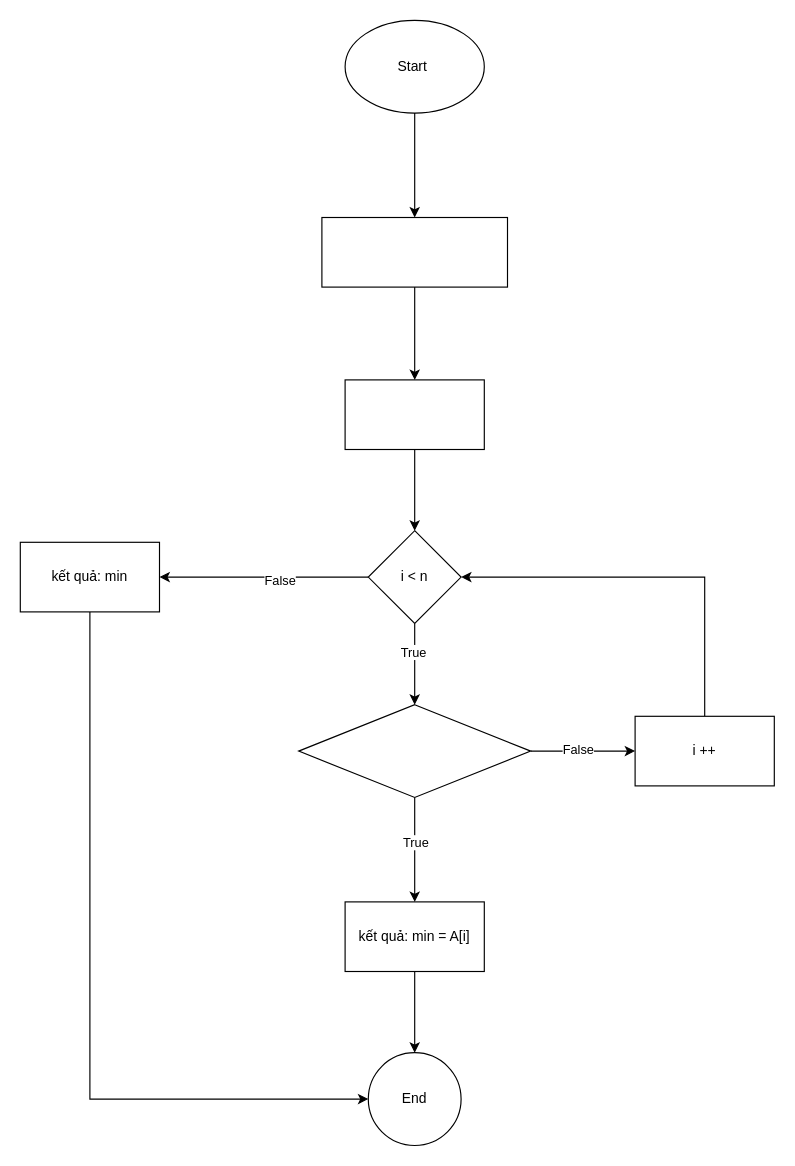
Some shapes in this 795 by 1166 pixel diagram are drawn without their labels. The centre of each missing label's shape, as x and y in pixels:
A[i] > 0, A[i] < min: point (414, 751)
min = A[0], i = 0: point (414, 414)
Nhập A[n]: point (414, 251)
